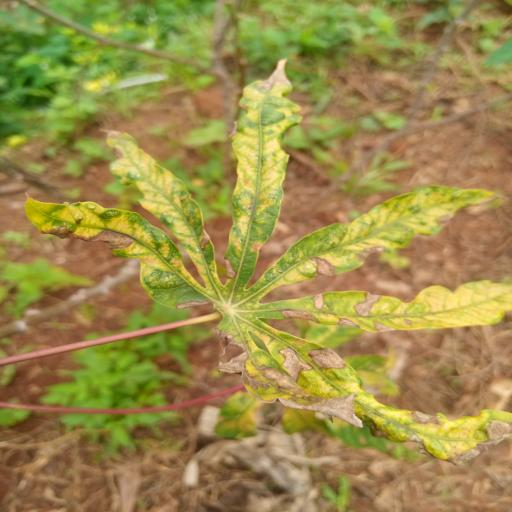Cassava_Mosaic: (23, 54, 512, 448)
